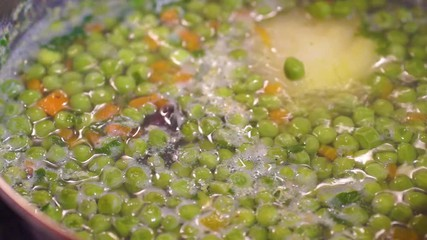boiled peas: (30, 105, 192, 215)
